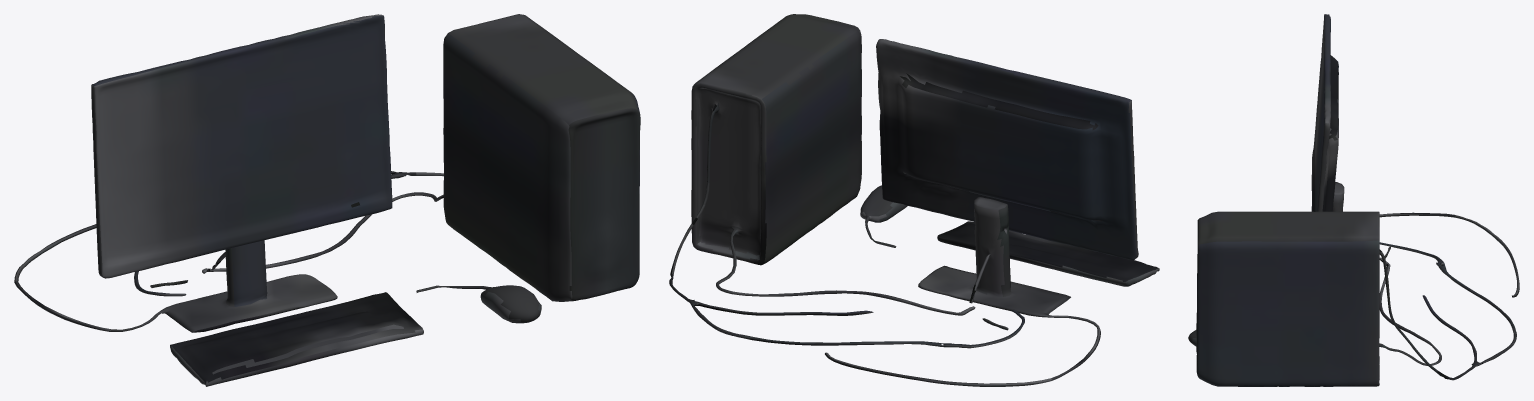
Rendered from computador2.obj.
3 renders of one model, left to right at view 1: azimuth 30°, elevation 25°; view 2: azimuth 150°, elevation 25°; view 3: azimuth 270°, elevation 25°, orthographic. The views are drawn at different scales.
Visible parts, largest first — view 1: Mesh_0; view 2: Mesh_0; view 3: Mesh_0.
Part boxes in pixels (x1,y1,x2,y2): Mesh_0: (14,14,640,386); Mesh_0: (669,14,1159,386); Mesh_0: (1188,14,1519,386).
Size of the model in its own units: 1.21 by 0.6451 by 0.9581.
